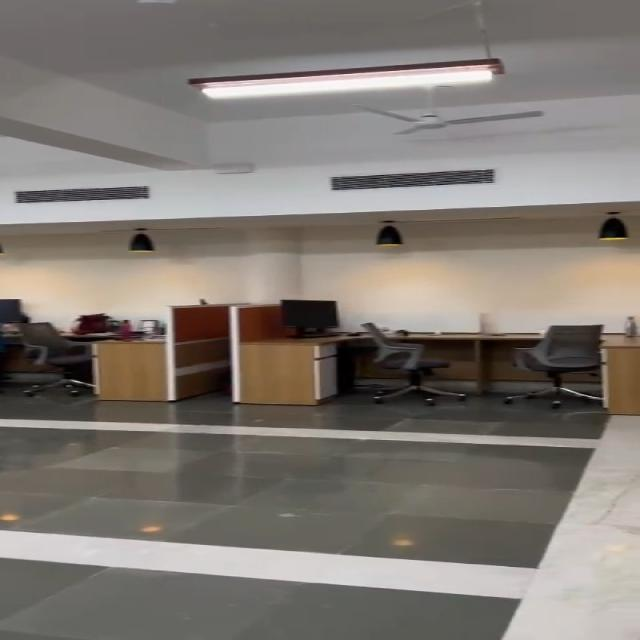floor: (0, 409, 640, 639)
furniture: (272, 292, 458, 414), (3, 294, 100, 400), (518, 319, 628, 403)
wall: (0, 189, 640, 297)
